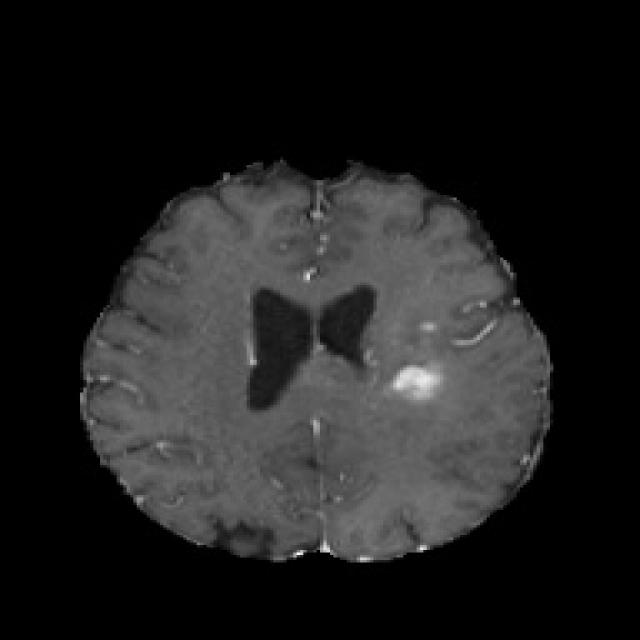positive: (392, 359, 438, 399)
